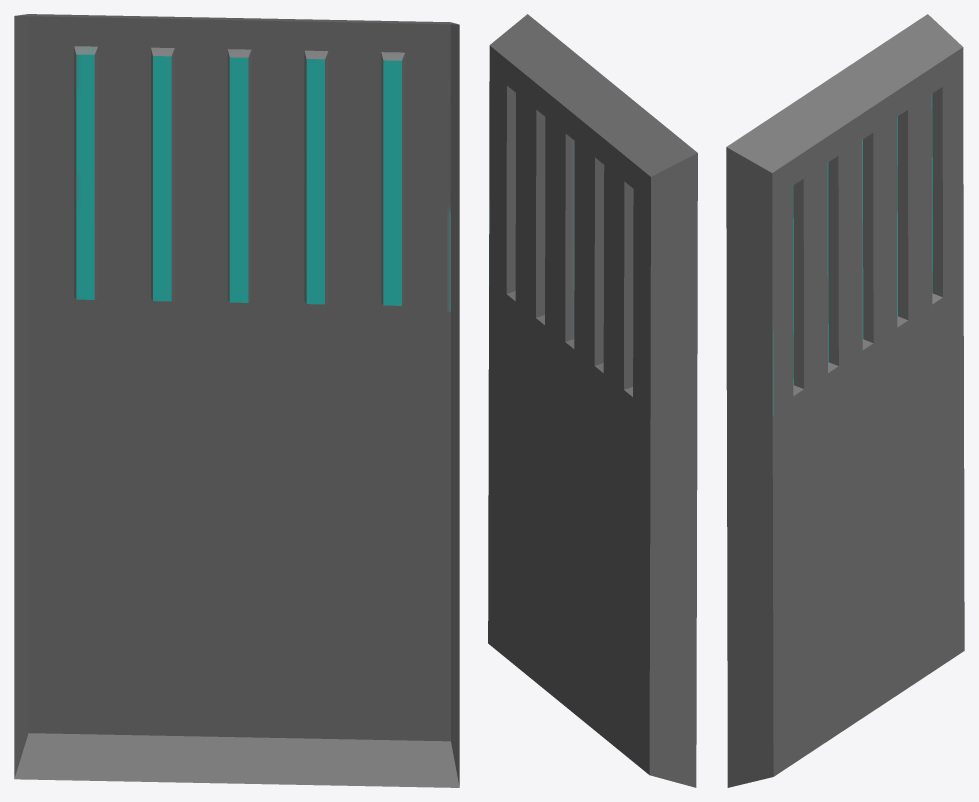
The model's file is SM_Building_04_SM_B4_D1.fbx.
The picture shows the model from 3 angles, left to right: view 1: azimuth 30°, elevation 25°; view 2: azimuth 150°, elevation 25°; view 3: azimuth 270°, elevation 25°; orthographic projection. The views are drawn at different scales.
Parts seen in each view (by area): view 1: SM_Building_04_SM_B4_D1; view 2: SM_Building_04_SM_B4_D1; view 3: SM_Building_04_SM_B4_D1.
Boxes of the visible parts, x1,y1,x2,y2 form: SM_Building_04_SM_B4_D1: [14, 14, 459, 787]; SM_Building_04_SM_B4_D1: [488, 14, 697, 787]; SM_Building_04_SM_B4_D1: [726, 14, 964, 787].
Size of the model in its own units: 409 by 292 by 866.
1 material, 1 textured.
